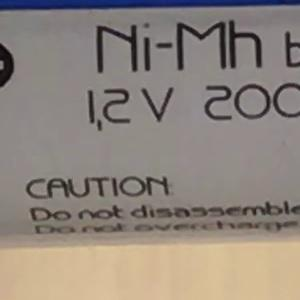keyword: (86, 10, 263, 83)
